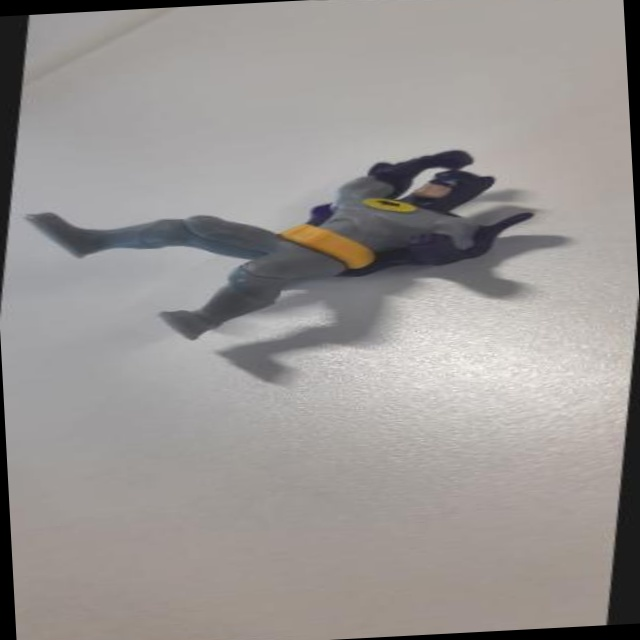Batman: (8, 133, 550, 357)
